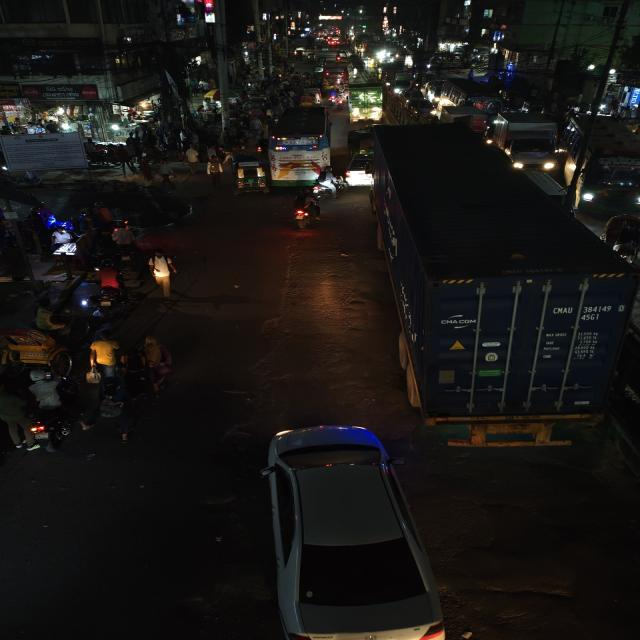bus: (564, 113, 640, 208), (268, 106, 332, 187)
car: (249, 419, 459, 640)
cng: (230, 158, 267, 195)
motorcycle: (24, 368, 95, 453), (291, 190, 324, 230), (311, 167, 349, 198), (253, 134, 266, 154), (327, 88, 338, 106), (336, 90, 345, 112)
pedestrian: (96, 376, 136, 446), (132, 332, 174, 396), (145, 244, 179, 304), (89, 328, 120, 390), (204, 155, 228, 190), (157, 160, 178, 192), (182, 144, 202, 176)
rickshaw: (0, 305, 91, 373)
truck: (364, 122, 639, 464), (495, 109, 560, 169), (346, 82, 383, 124)
